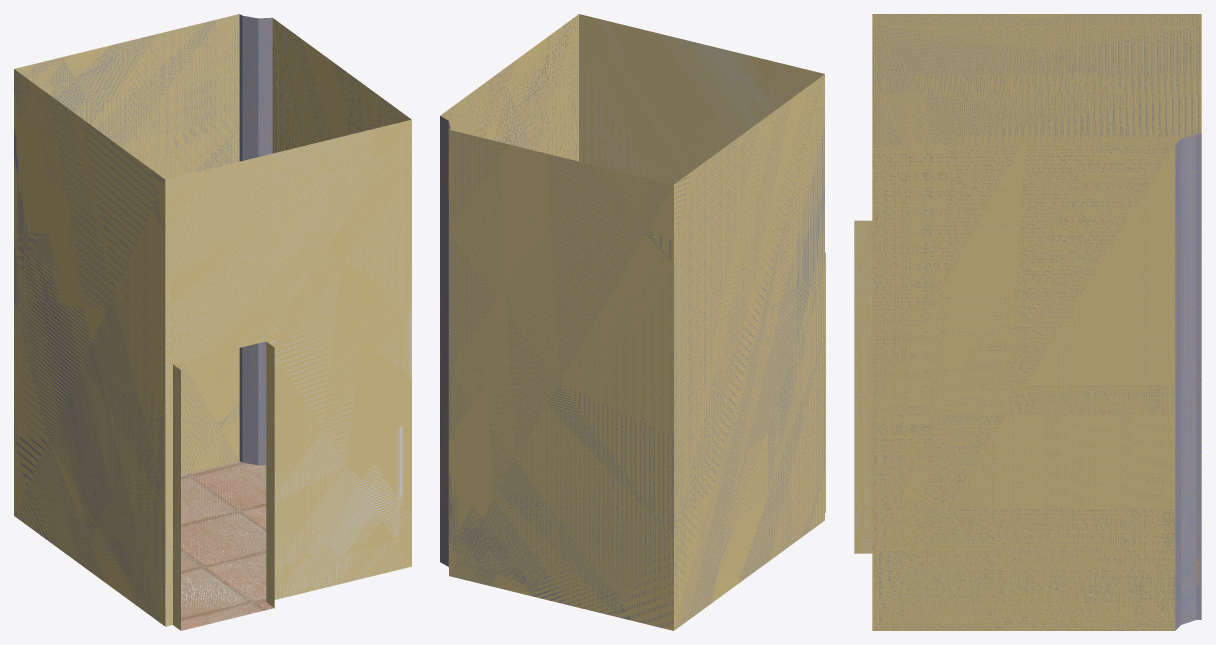
File: COM025.obj
3 renders of one model, left to right at view 1: azimuth 30°, elevation 25°; view 2: azimuth 150°, elevation 25°; view 3: azimuth 270°, elevation 25°, orthographic. The views are drawn at different scales.
Visible parts, largest first — view 1: Mesh1 COM025 Model; view 2: Mesh1 COM025 Model; view 3: Mesh1 COM025 Model.
Boxes of the visible parts, <box> form: Mesh1 COM025 Model: <box>14,14,411,630</box>; Mesh1 COM025 Model: <box>440,14,825,630</box>; Mesh1 COM025 Model: <box>854,14,1201,630</box>.
Size of the model in its own units: 2.08 by 3.6 by 2.33.
6 materials, 2 textured.
